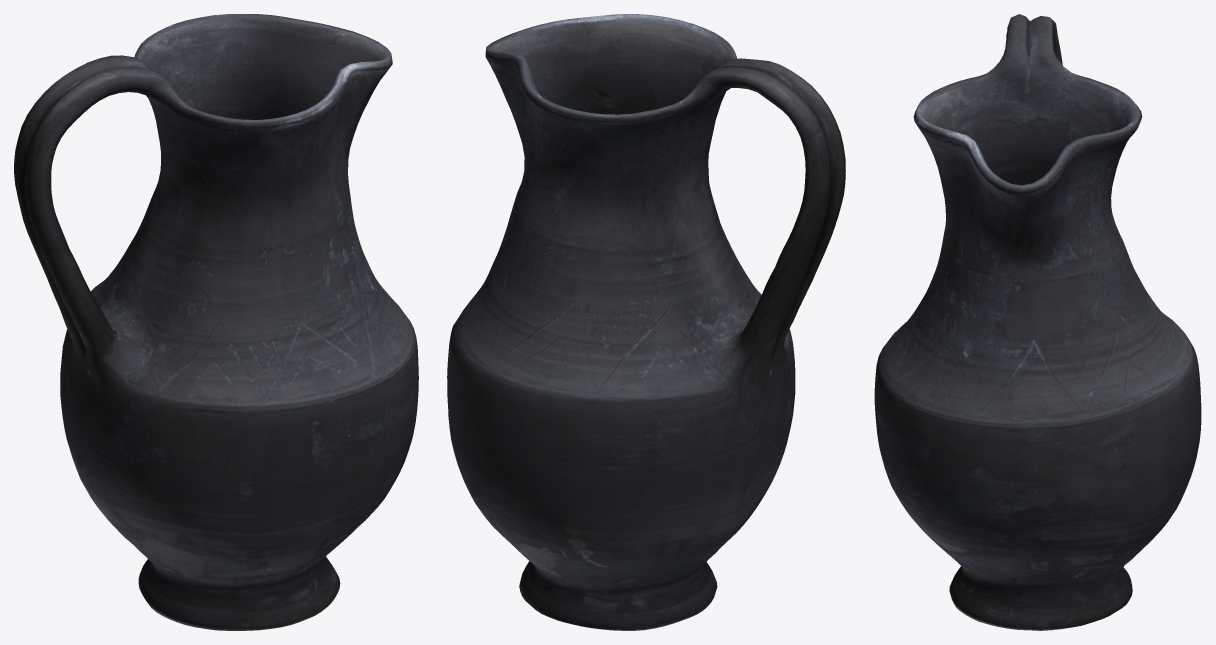
The model's file is obj_etruscan_jar_replica_d7918f.glb.
3 views of the same model, side by side, from view 1: azimuth 30°, elevation 25°; view 2: azimuth 150°, elevation 25°; view 3: azimuth 270°, elevation 25° (orthographic). The views are drawn at different scales.
Visible parts, largest first — view 1: obj_etruscan_jar_replica_d7918f; view 2: obj_etruscan_jar_replica_d7918f; view 3: obj_etruscan_jar_replica_d7918f.
Part boxes in pixels (box(x1,y1,x2,y2)): obj_etruscan_jar_replica_d7918f: box(14, 14, 418, 630); obj_etruscan_jar_replica_d7918f: box(447, 14, 845, 630); obj_etruscan_jar_replica_d7918f: box(874, 14, 1201, 630).
Bounding box in the file's own units: 0.1732 × 0.25 × 0.1445.
Materials: 1 (1 with a texture image).
